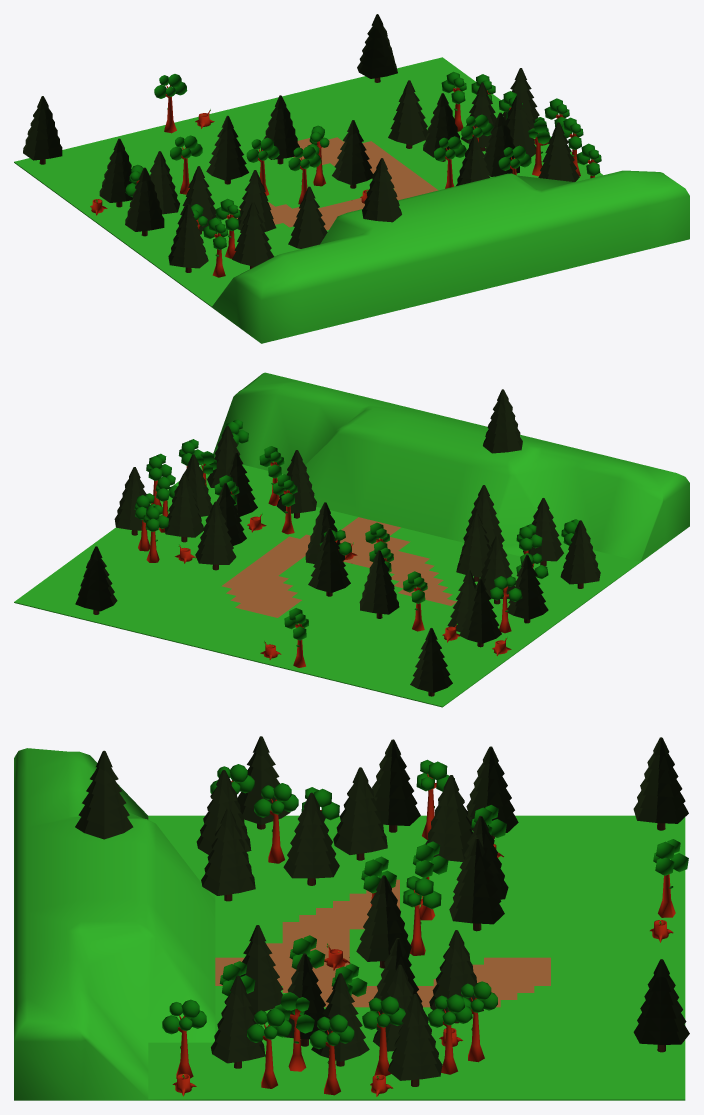
File: tutoriallvl.FBX
The picture shows the model from 3 angles, top to bottom: view 1: azimuth 30°, elevation 25°; view 2: azimuth 150°, elevation 25°; view 3: azimuth 270°, elevation 25°; orthographic projection. The views are drawn at different scales.
Visible parts, largest first — view 1: Box001; view 2: Box001; view 3: Box001.
Part boxes in pixels (left/top/right/bottom): Box001: left=14, top=14, right=689, bottom=343; Box001: left=14, top=372, right=689, bottom=707; Box001: left=14, top=736, right=689, bottom=1100.
Size of the model in its own units: 1271 by 381 by 1279.
